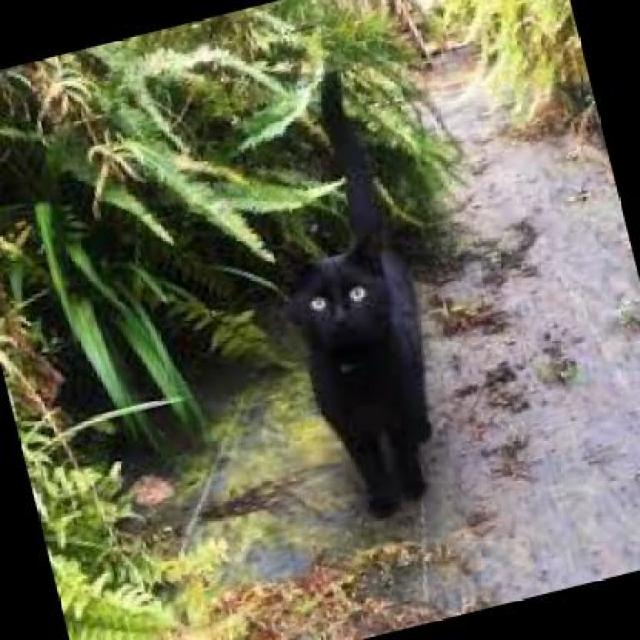animals: (222, 50, 506, 541)
